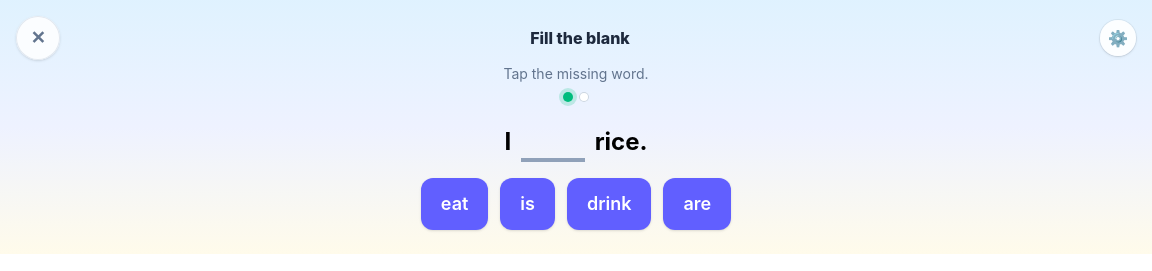
Test: FillBlankScreen › advances to the next item ~700ms after a correct tap (not the last item)
The image size is (1152, 271).
Check: the text "rice." is shown, box [589,127,648,156]
Click the button with test id "tile-eat" at (455, 204), box [421,178,488,230]
Wait 700 ms
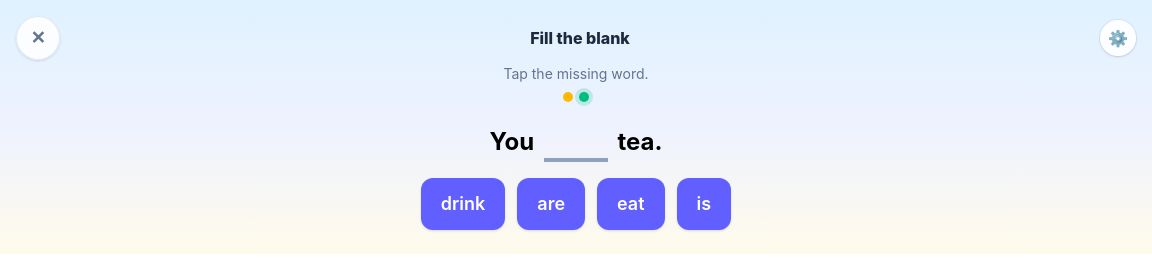
Check: the text "tea." is shown, box [612,127,662,156]
